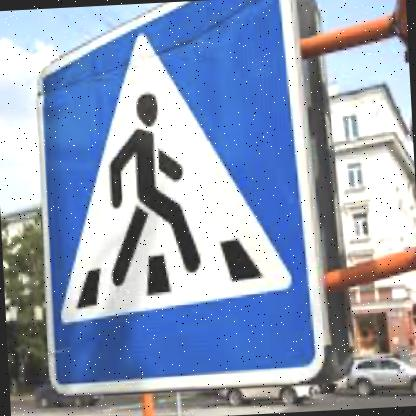crosswalk: (29, 0, 327, 396)
